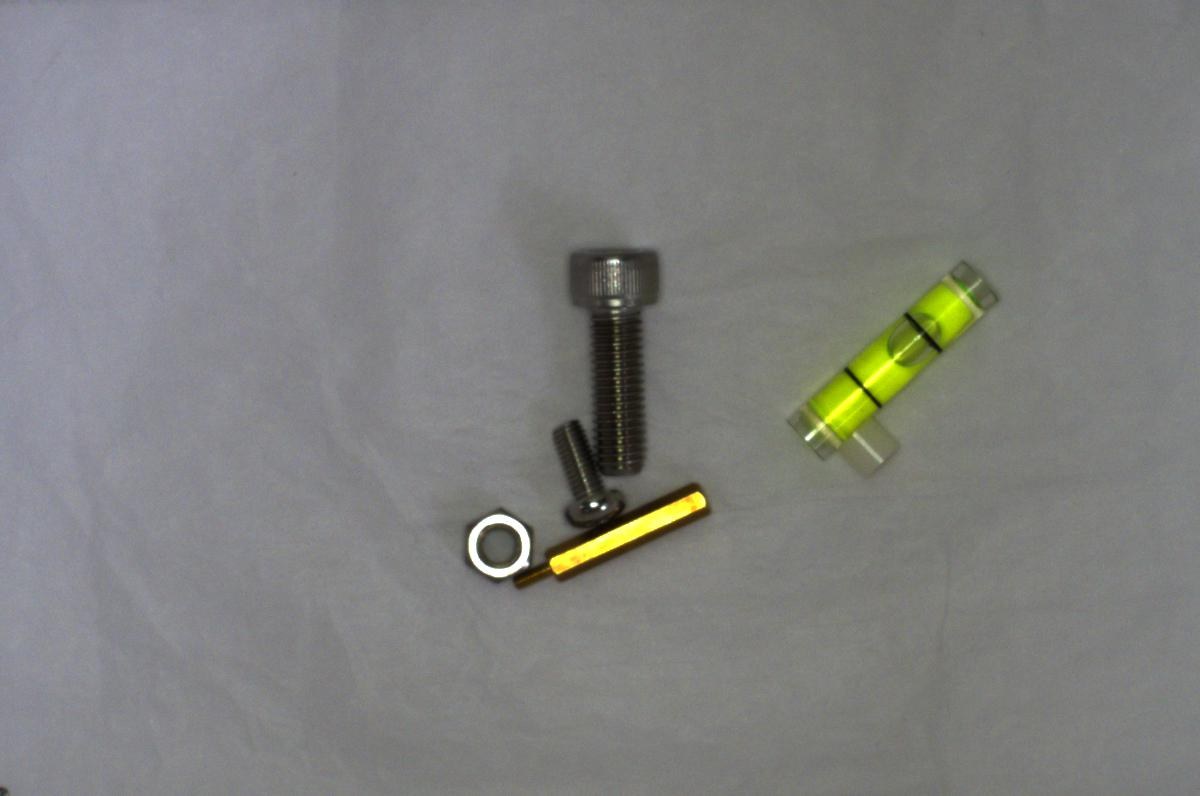Hexagon nut: (453, 498, 537, 593)
Hexagon pillar: (510, 483, 720, 600)
Hexagon screw: (553, 242, 665, 487)
Horizontal bubble: (784, 258, 1007, 458)
Plastic cushion pillar: (838, 414, 904, 482)
Round head screw: (541, 406, 626, 532)
